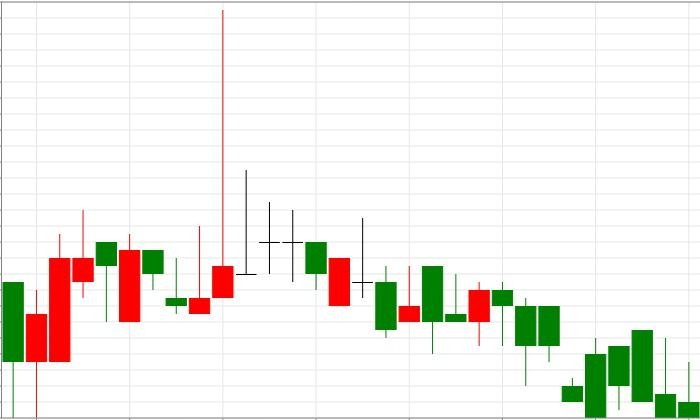hanging_man_fall: (1, 210, 118, 419)
inverse_hammer_rise: (96, 225, 211, 322)
